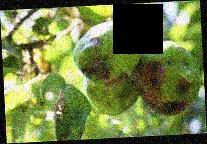rotten apple: (133, 41, 202, 121), (68, 20, 144, 88)
